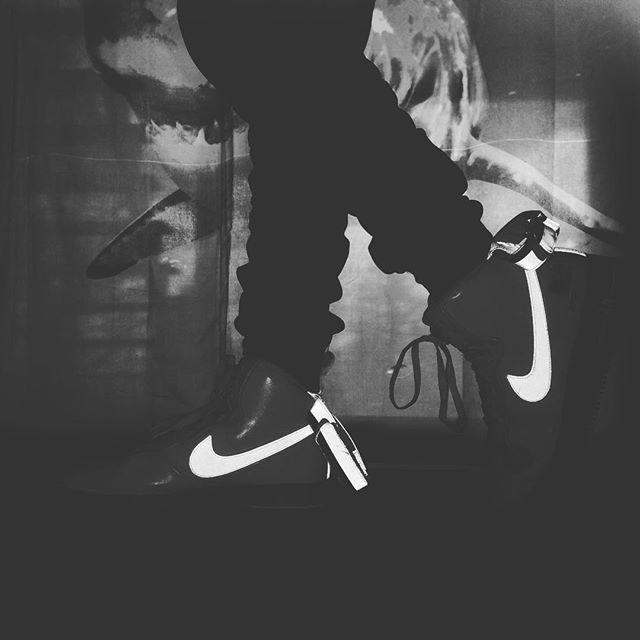shoe: (421, 209, 626, 559), (63, 350, 372, 524)
